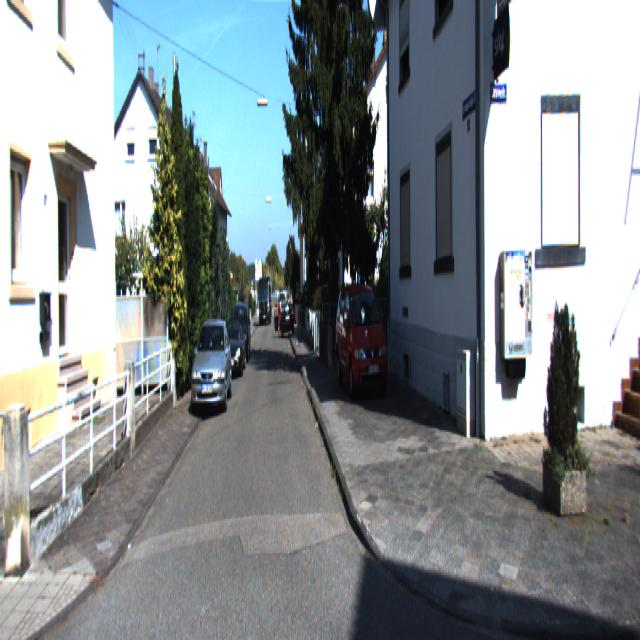Car: (334, 279, 388, 407), (192, 318, 231, 422), (219, 321, 245, 382)
